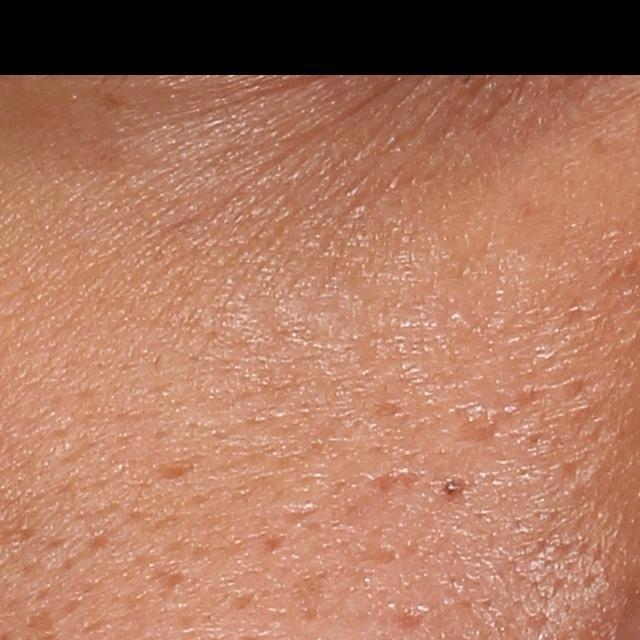atrophic_scar: (447, 405, 508, 448), (149, 457, 200, 486), (150, 566, 188, 594), (368, 470, 414, 492), (395, 604, 429, 633)
nevus: (439, 476, 465, 498)
